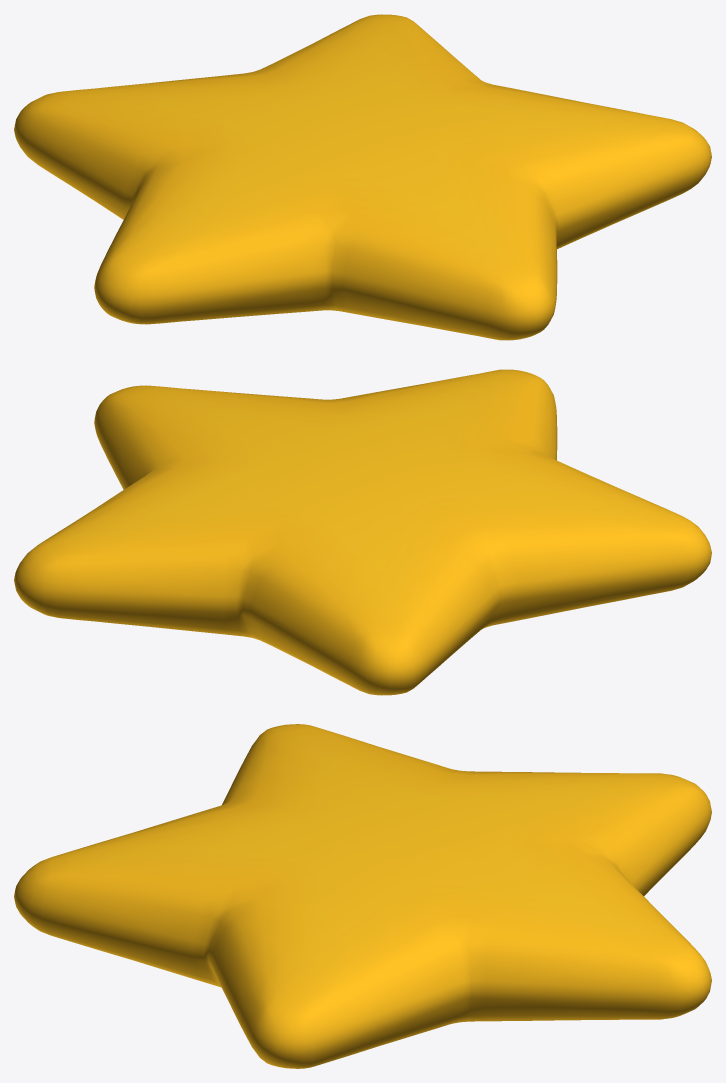
The model's file is star.glb.
3 renders of one model, top to bottom at view 1: azimuth 30°, elevation 25°; view 2: azimuth 150°, elevation 25°; view 3: azimuth 270°, elevation 25°, orthographic. The views are drawn at different scales.
Visible parts, largest first — view 1: model_0; view 2: model_0; view 3: model_0.
Part boxes in pixels (x1,y1,x2,y2): model_0: [14, 14, 711, 340]; model_0: [14, 369, 711, 695]; model_0: [14, 724, 711, 1068].
Size of the model in its own units: 71.49 by 12.86 by 68.4.
Materials: 1 (1 with a texture image).
